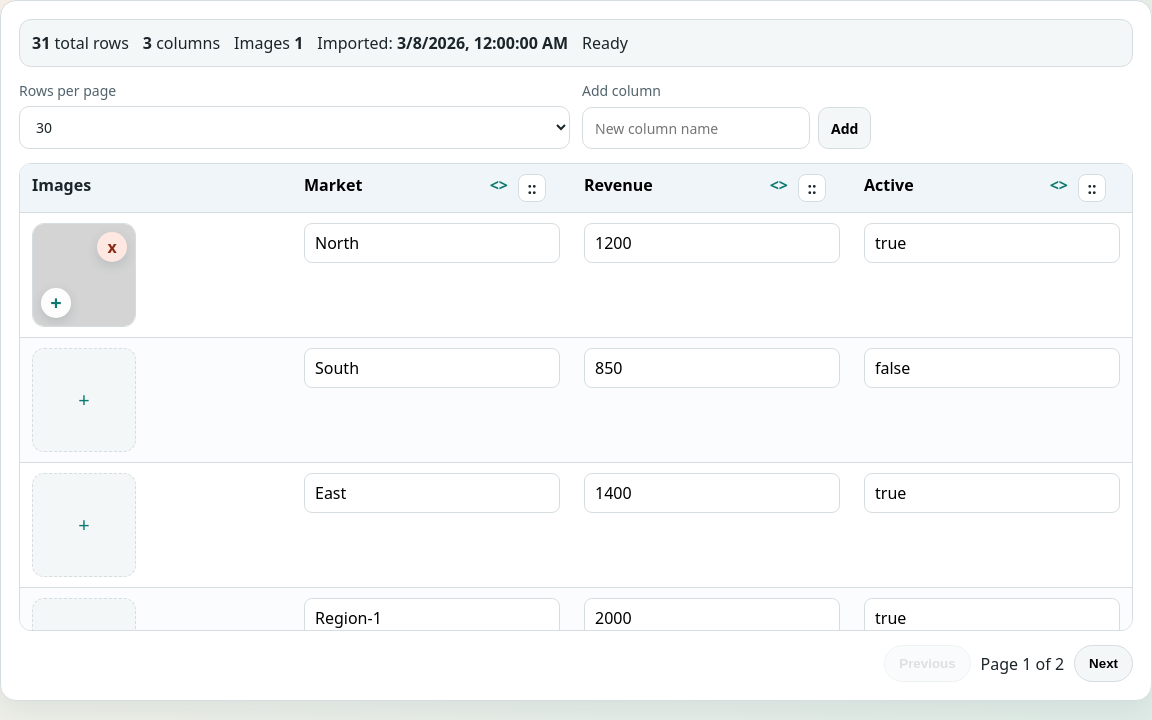
Test: TamTable › renders upload icon controls and deletes row images
Expected: the file field named "Upload image for row 1" is shown, [41,288,71,318]
Click the button named "Delete sample.png" at (112, 247), box [97,232,127,262]
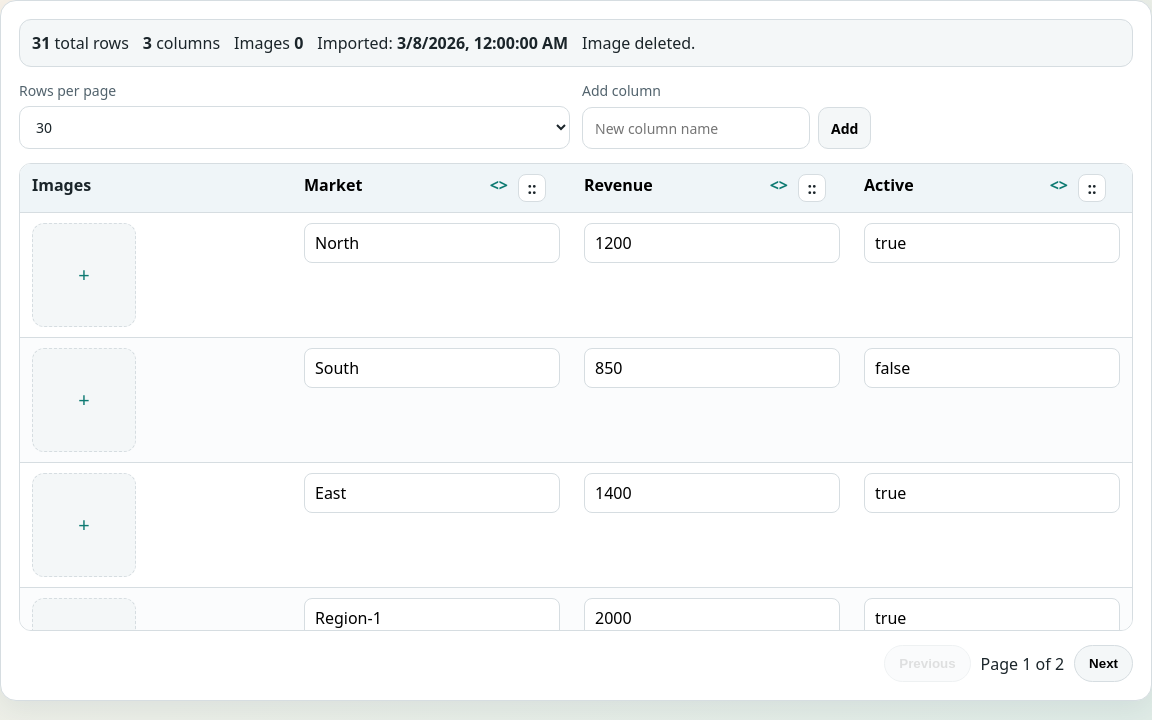
Now the text "Image deleted." is shown, box [582,32,695,54]
